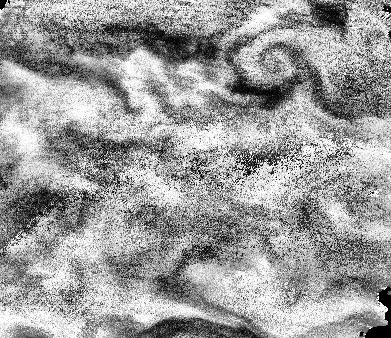CE: (233, 33, 297, 94)
